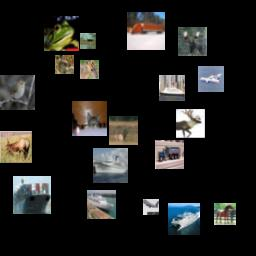airplane: (198, 66, 224, 92), (143, 199, 159, 215)
bird: (0, 75, 35, 110), (80, 33, 96, 49)
cat: (72, 101, 107, 136)
deer: (0, 131, 32, 163), (109, 116, 138, 145), (178, 27, 207, 56), (176, 109, 205, 138), (80, 60, 99, 79), (55, 55, 74, 74)
frog: (44, 16, 79, 51)
ship: (13, 176, 51, 214), (93, 148, 128, 183), (168, 203, 200, 235), (87, 190, 116, 219), (159, 75, 185, 101)
truck: (127, 12, 165, 50), (155, 140, 184, 169)
